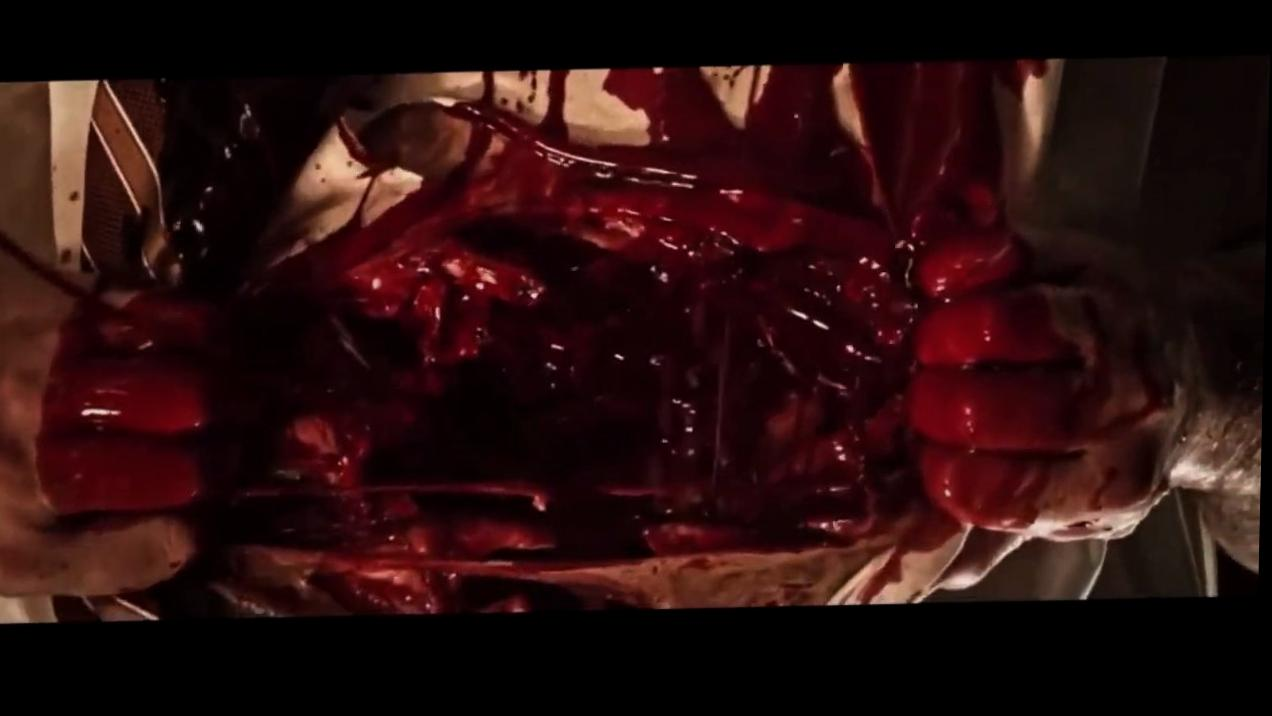Fire: (39, 67, 1177, 619)
